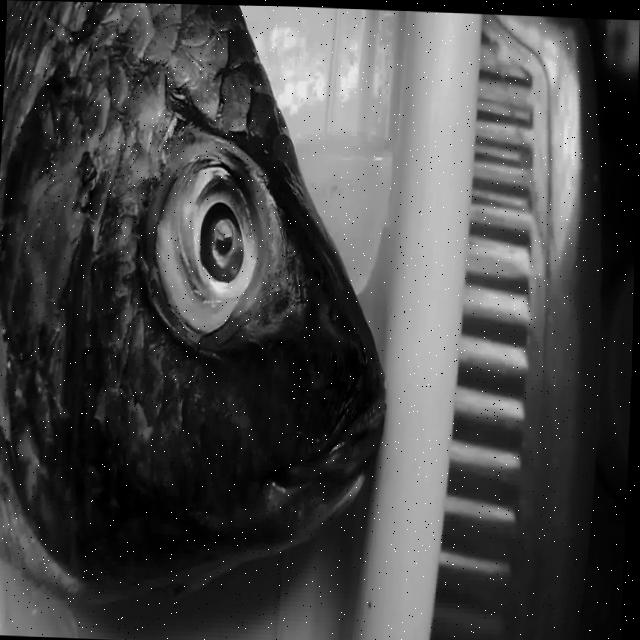Fresh: (114, 96, 297, 359)
